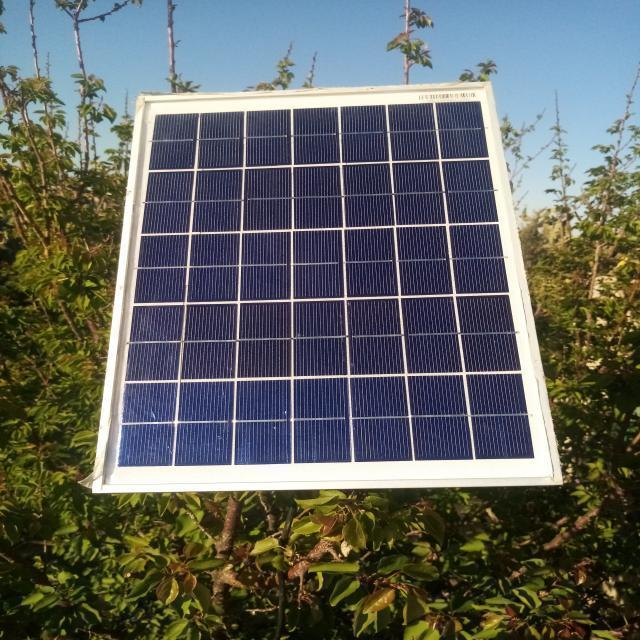Normal Solar Panel: (92, 82, 561, 493)
